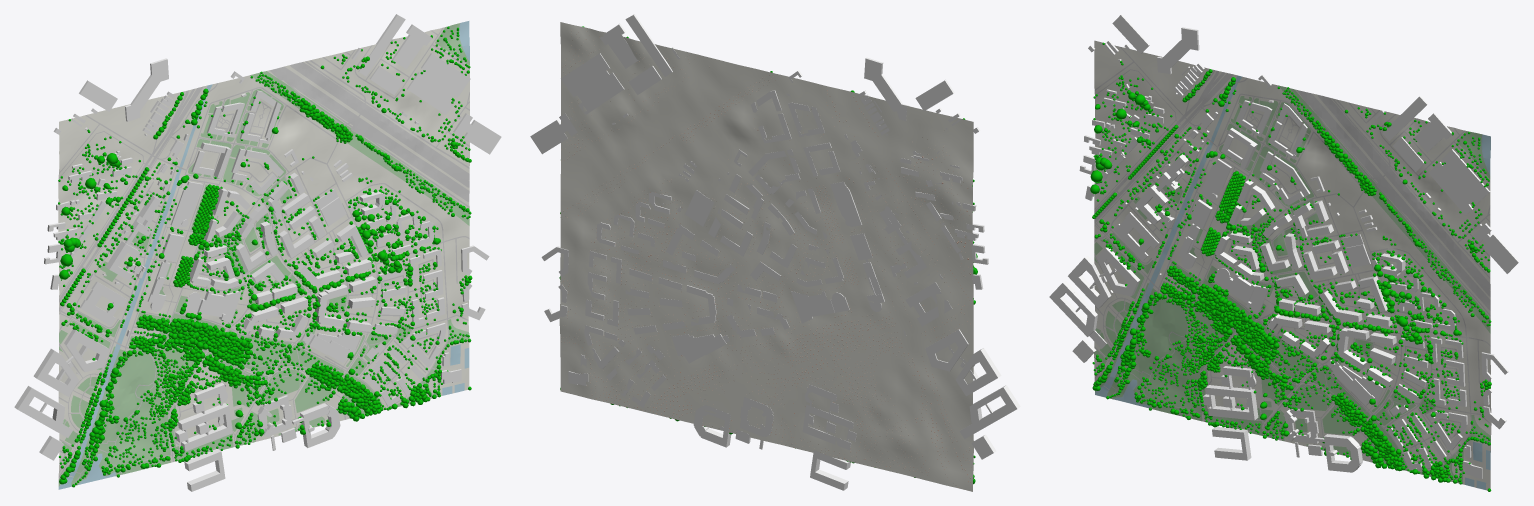
File: north-3d.glb
The picture shows the model from 3 angles, left to right: view 1: azimuth 30°, elevation 25°; view 2: azimuth 150°, elevation 25°; view 3: azimuth 330°, elevation 25°; orthographic projection. The views are drawn at different scales.
Visible parts, largest first — view 1: TPX_Ground, TPX_Buildings, TPX_GreenAreas, TPX_RoadsOutlines, TPX_Waterways_1; view 2: TPX_Ground, TPX_Buildings; view 3: TPX_Ground, TPX_Buildings, TPX_GreenAreas, TPX_RoadsOutlines, TPX_Waterways_1.
Boxes of the visible parts, x1,y1,x2,y2 form: TPX_Ground: (58,27,469,478); TPX_Buildings: (14,14,501,491); TPX_GreenAreas: (58,23,469,486); TPX_RoadsOutlines: (58,27,469,484); TPX_Waterways_1: (58,21,469,489); TPX_Ground: (559,22,973,491); TPX_Buildings: (530,14,1020,490); TPX_Ground: (1094,40,1491,490); TPX_Buildings: (1049,14,1519,478); TPX_GreenAreas: (1094,85,1490,484); TPX_RoadsOutlines: (1094,47,1491,480); TPX_Waterways_1: (1095,75,1490,489).
Size of the model in its own units: 1278 by 1096 by 36.22.
